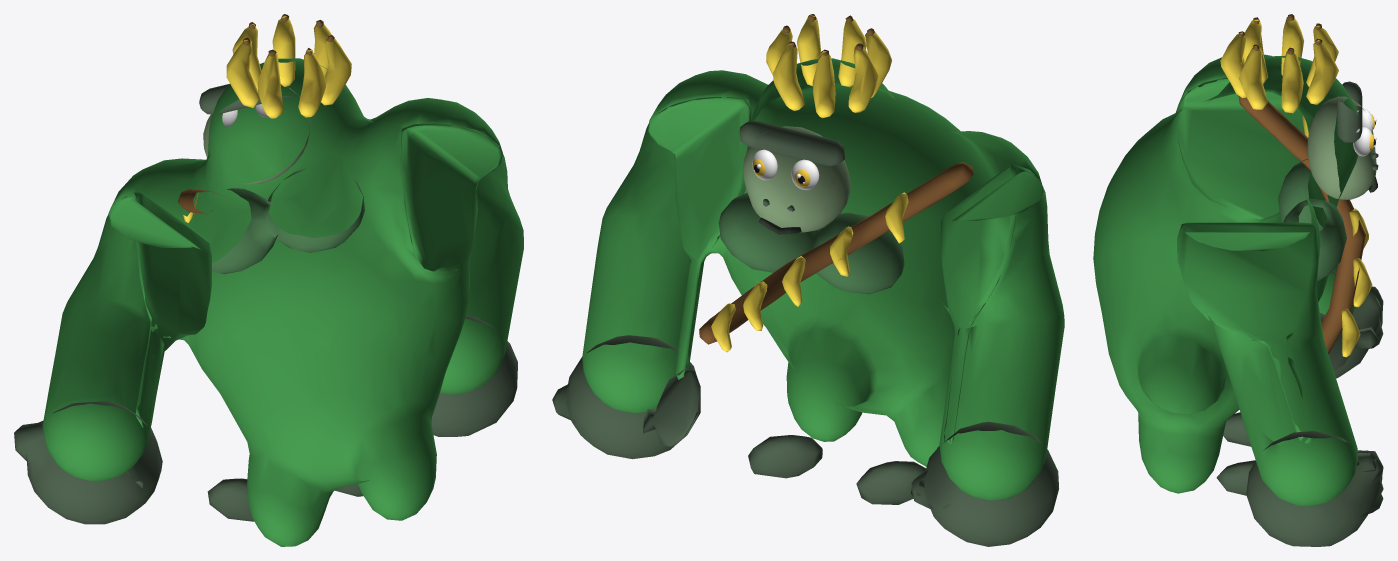
The model's file is boss_green_gorilla.glb.
3 renders of one model, left to right at view 1: azimuth 30°, elevation 25°; view 2: azimuth 150°, elevation 25°; view 3: azimuth 270°, elevation 25°, orthographic. The views are drawn at different scales.
Visible parts, largest first — view 1: body, armL, armR; view 2: body, armL, armR; view 3: body, armR, armL.
Boxes of the visible parts, box(x1,y1,x2,y2) form: body: box(108, 14, 502, 546); armL: box(14, 191, 211, 524); armR: box(400, 123, 523, 436); body: box(643, 14, 1043, 509); armL: box(911, 164, 1064, 546); armR: box(552, 97, 751, 459); body: box(1093, 14, 1378, 495); armR: box(1177, 222, 1383, 546); armL: box(1177, 77, 1383, 378).
Bounding box in the file's own units: 3.06 × 2.83 × 1.71.
1 material, 1 textured.
